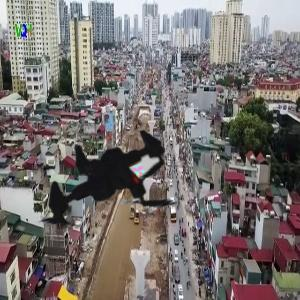drone: (6, 86, 218, 298)
